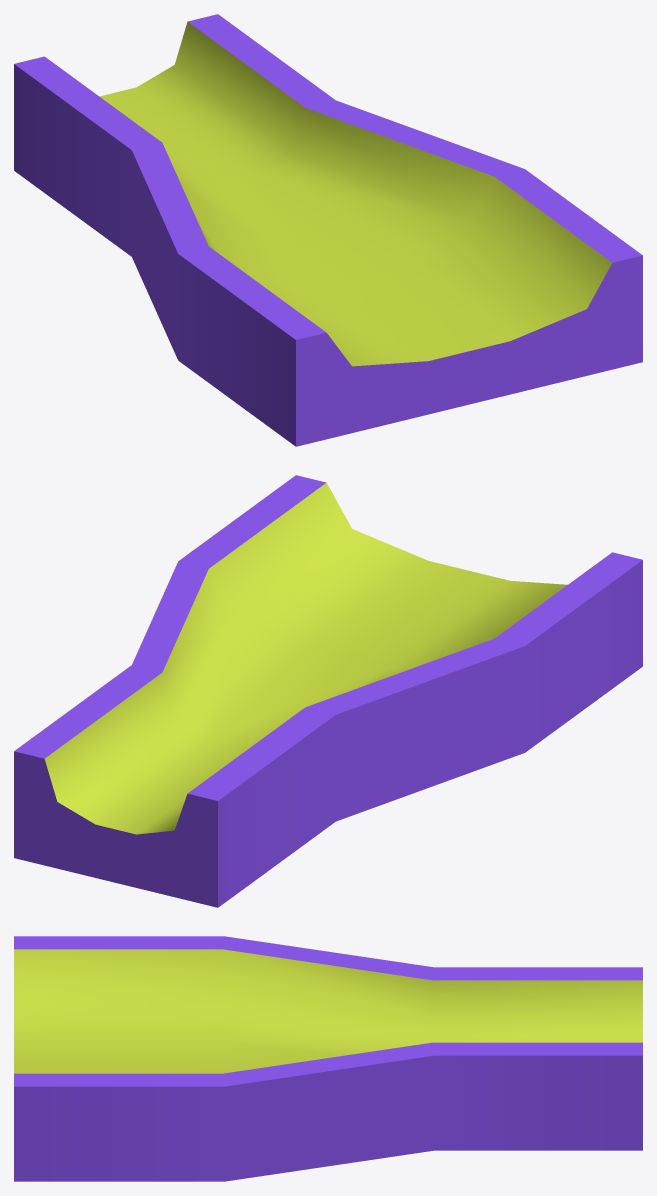
File: funnel_long.fbx
3 views of the same model, one above another, from view 1: azimuth 30°, elevation 25°; view 2: azimuth 150°, elevation 25°; view 3: azimuth 270°, elevation 25° (orthographic). The views are drawn at different scales.
Visible parts, largest first — view 1: funnel_long; view 2: funnel_long; view 3: funnel_long.
Part boxes in pixels (x1,y1,x2,y2): funnel_long: (14,14,642,446); funnel_long: (14,475,642,907); funnel_long: (14,936,642,1181).
Bounding box in the file's own units: 17 × 5 × 30.
